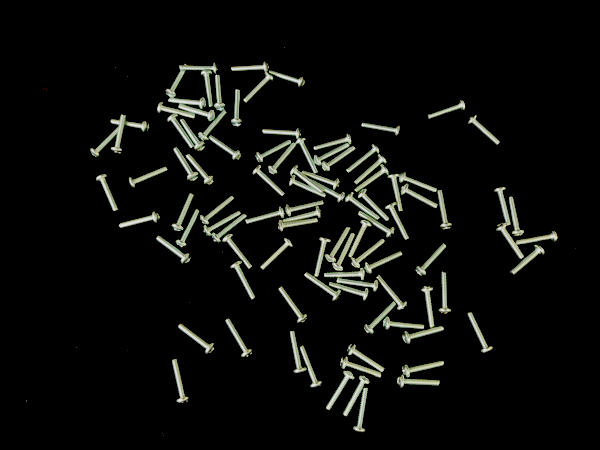longscrew: (172, 323, 216, 356), (222, 318, 254, 358), (223, 234, 255, 274), (343, 374, 372, 416), (324, 370, 353, 412), (226, 263, 257, 302), (277, 284, 308, 323), (467, 116, 506, 146), (416, 244, 453, 275), (397, 184, 441, 210), (340, 358, 384, 384), (301, 176, 345, 202), (425, 95, 469, 120), (117, 209, 161, 234), (127, 165, 171, 190), (398, 370, 442, 395), (343, 345, 387, 370), (178, 116, 208, 152), (387, 200, 412, 243), (399, 167, 442, 192), (403, 355, 446, 380), (164, 115, 194, 150), (380, 275, 408, 312), (512, 245, 544, 277), (365, 300, 395, 334), (289, 174, 324, 203), (158, 236, 193, 265), (183, 155, 218, 184), (353, 165, 389, 193), (258, 240, 294, 268), (289, 165, 325, 193), (349, 220, 376, 257), (252, 167, 285, 197), (199, 198, 237, 224), (345, 145, 380, 173), (352, 156, 387, 184), (305, 272, 340, 300), (468, 312, 491, 354), (199, 110, 230, 140), (352, 241, 389, 266), (175, 211, 200, 248), (175, 148, 202, 182), (293, 138, 318, 174), (204, 212, 241, 236), (212, 217, 247, 242), (211, 134, 242, 162), (327, 283, 370, 303), (334, 234, 357, 271), (360, 120, 402, 140), (403, 327, 445, 347), (383, 314, 425, 334), (435, 187, 454, 231), (437, 269, 456, 313), (355, 388, 374, 432), (98, 171, 117, 215), (365, 254, 409, 273), (329, 226, 352, 262), (346, 195, 379, 220), (419, 284, 438, 327), (312, 145, 349, 167), (361, 191, 389, 220), (361, 213, 393, 238), (493, 184, 511, 228), (508, 193, 526, 237), (170, 359, 188, 403), (226, 88, 244, 132), (211, 69, 229, 113), (173, 194, 195, 230), (270, 145, 298, 173), (322, 147, 356, 170), (302, 346, 320, 389), (288, 331, 306, 374), (111, 113, 129, 156), (386, 173, 406, 211), (302, 170, 339, 189), (256, 142, 292, 160), (280, 209, 322, 224), (264, 71, 306, 86), (154, 102, 196, 117), (166, 94, 208, 109), (325, 268, 367, 283), (311, 134, 353, 149), (338, 275, 379, 290), (314, 238, 330, 276), (278, 218, 320, 232), (243, 209, 285, 223), (285, 201, 327, 215), (261, 126, 303, 140), (109, 117, 151, 131), (176, 105, 218, 119), (202, 68, 215, 110)
